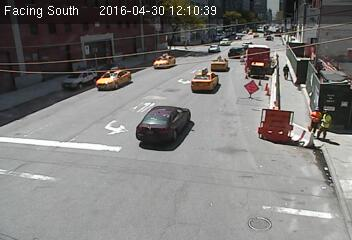neg: (158, 100, 196, 151), (193, 140, 230, 190), (301, 167, 335, 213), (1, 104, 23, 133), (133, 112, 150, 135), (96, 112, 112, 134), (66, 63, 79, 80), (244, 200, 255, 215)
pos: (316, 107, 342, 142), (301, 104, 326, 137), (280, 62, 294, 81)
